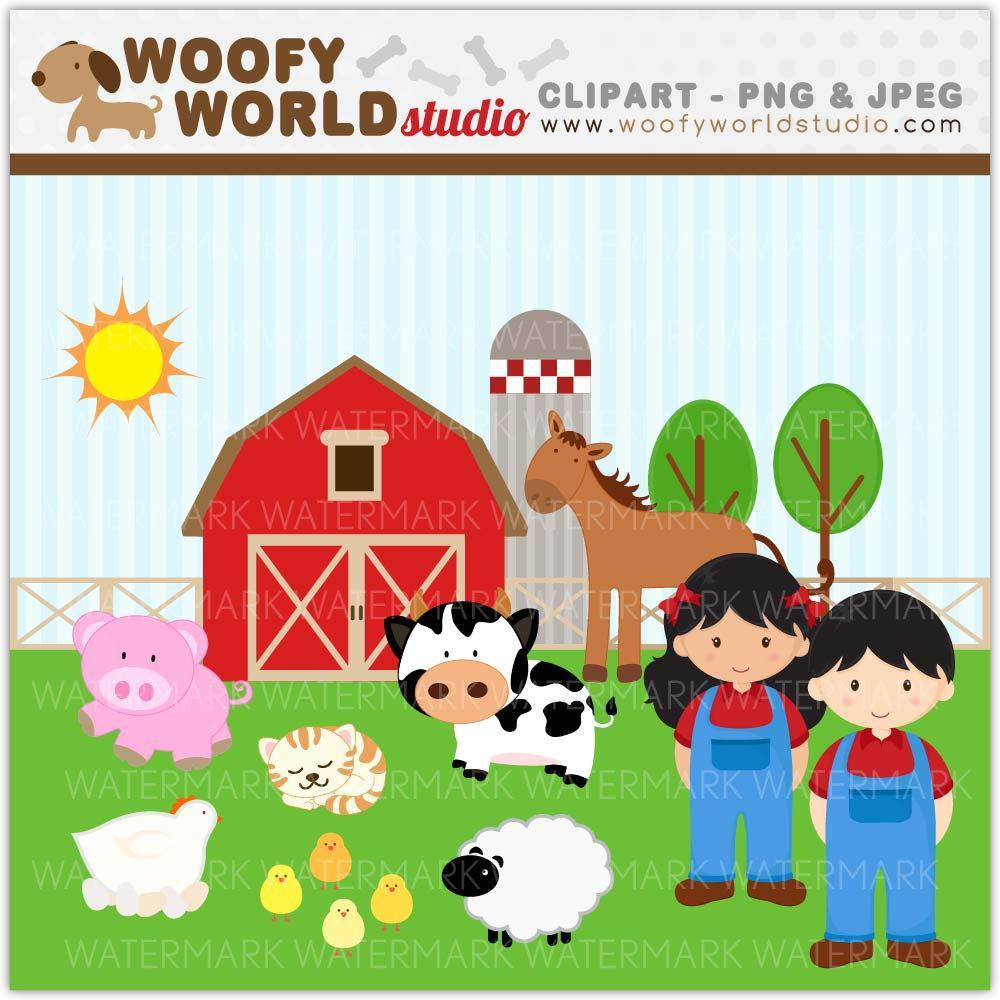bird: (50, 785, 243, 932), (313, 897, 370, 961), (302, 834, 355, 894), (366, 874, 416, 937), (253, 864, 306, 917)
cat: (257, 721, 403, 819)
cow: (372, 587, 610, 798)
dog: (23, 39, 172, 147)
horse: (515, 408, 809, 684)
person: (646, 558, 822, 922), (796, 594, 960, 971)
sheep: (435, 824, 636, 949)
